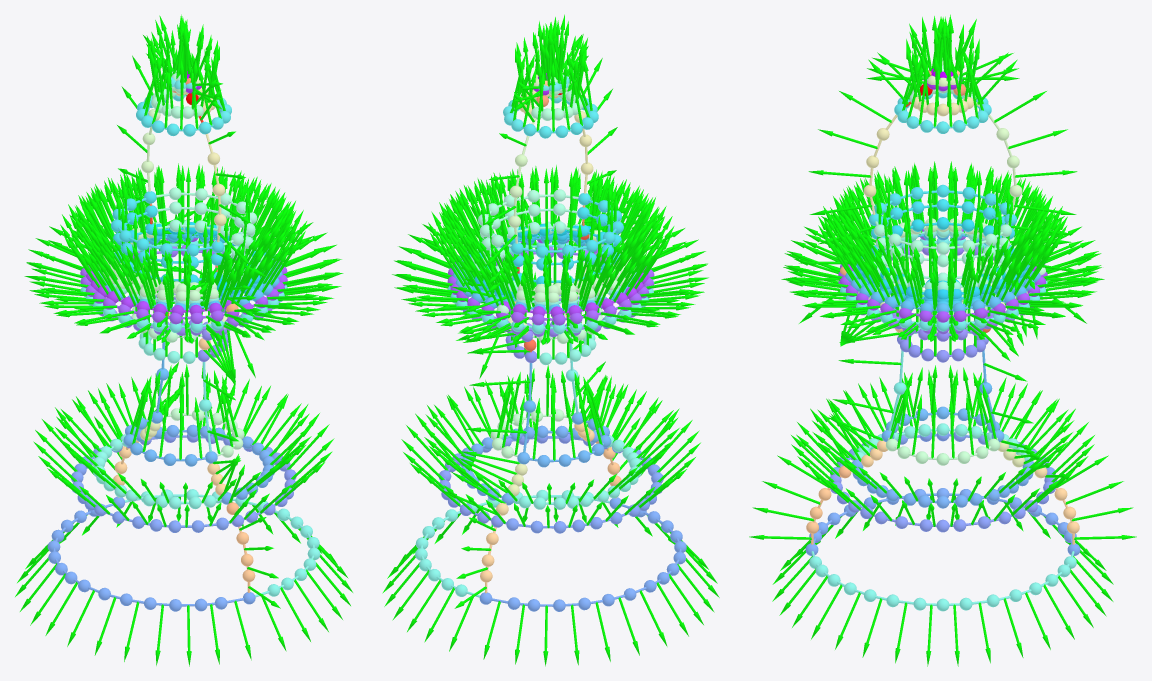
File: onshape_bishop.gltf
3 renders of one model, left to right at view 1: azimuth 30°, elevation 25°; view 2: azimuth 150°, elevation 25°; view 3: azimuth 270°, elevation 25°, orthographic.
Bounding box in the file's own units: 0.5294 × 0.9944 × 0.6069.
